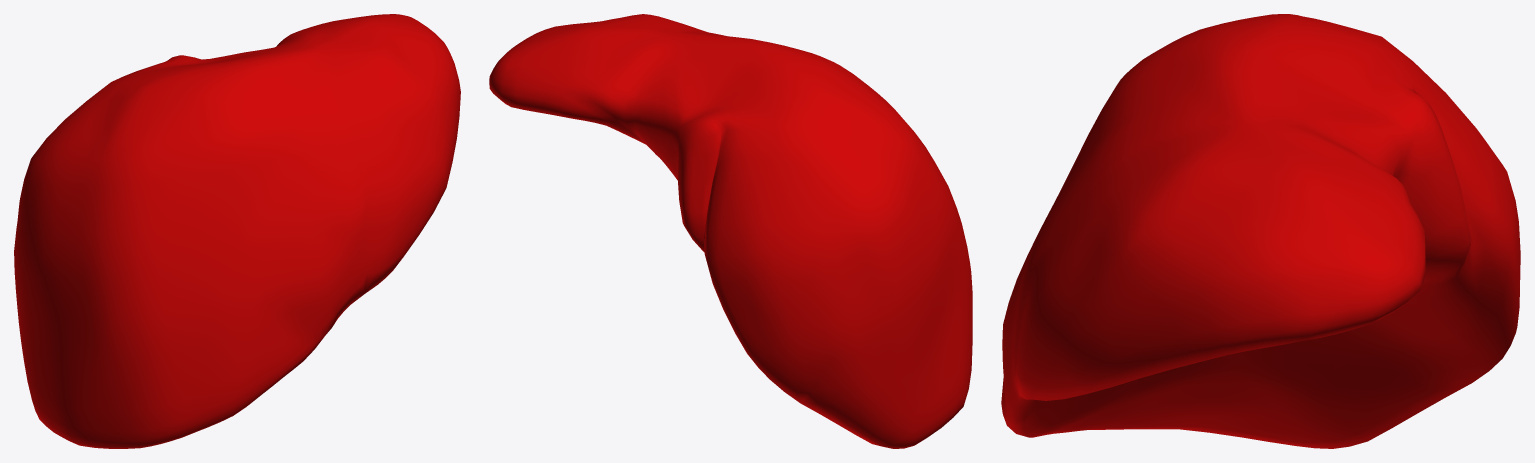
File: liver-smoothUV.obj
The picture shows the model from 3 angles, left to right: view 1: azimuth 30°, elevation 25°; view 2: azimuth 150°, elevation 25°; view 3: azimuth 270°, elevation 25°; orthographic projection. The views are drawn at different scales.
Bounding box in the file's own units: 6.39 × 4.91 × 4.41.
